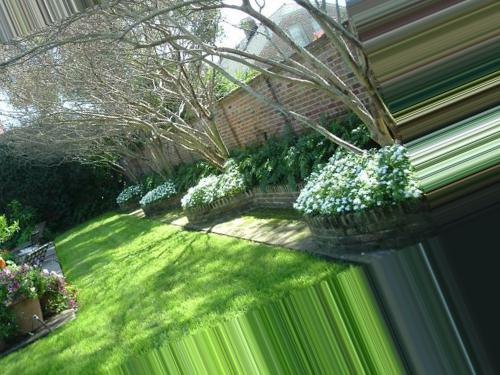patch: (219, 216, 289, 234)
